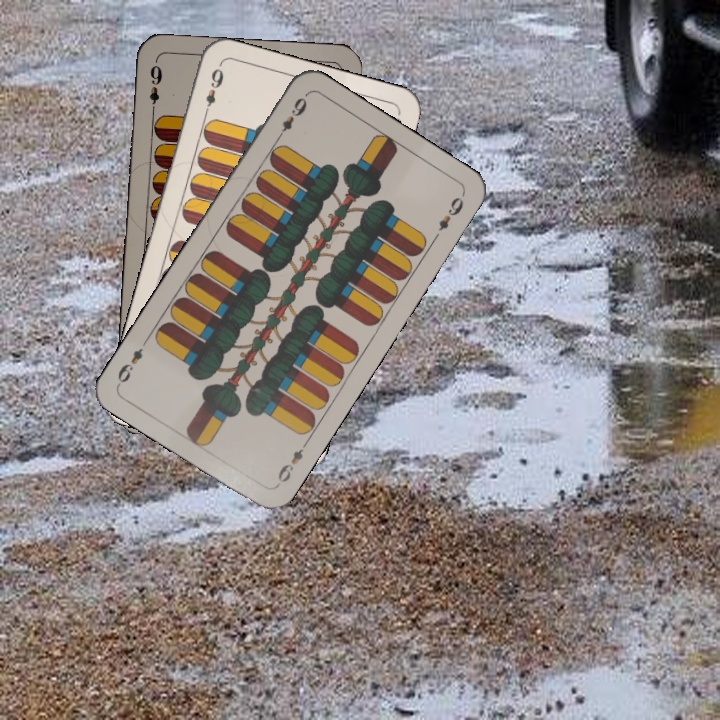E9: (272, 437, 311, 489), (272, 93, 310, 144), (199, 64, 226, 119), (145, 58, 165, 118)
